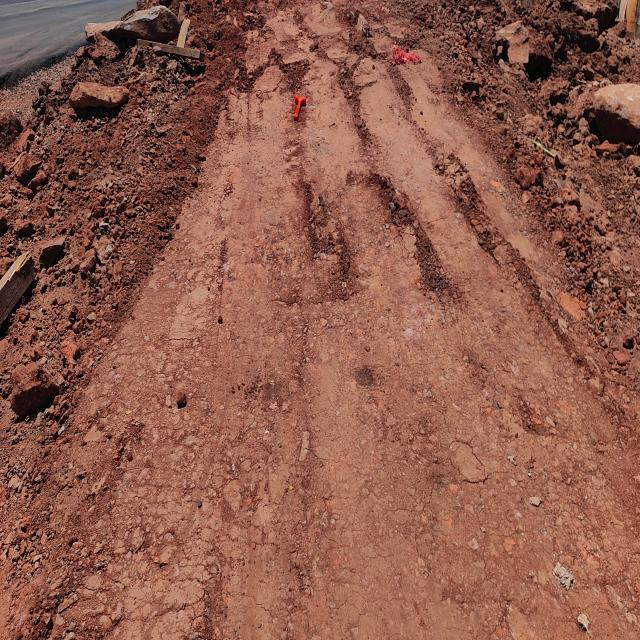Orange_hammer: (292, 93, 306, 122)
